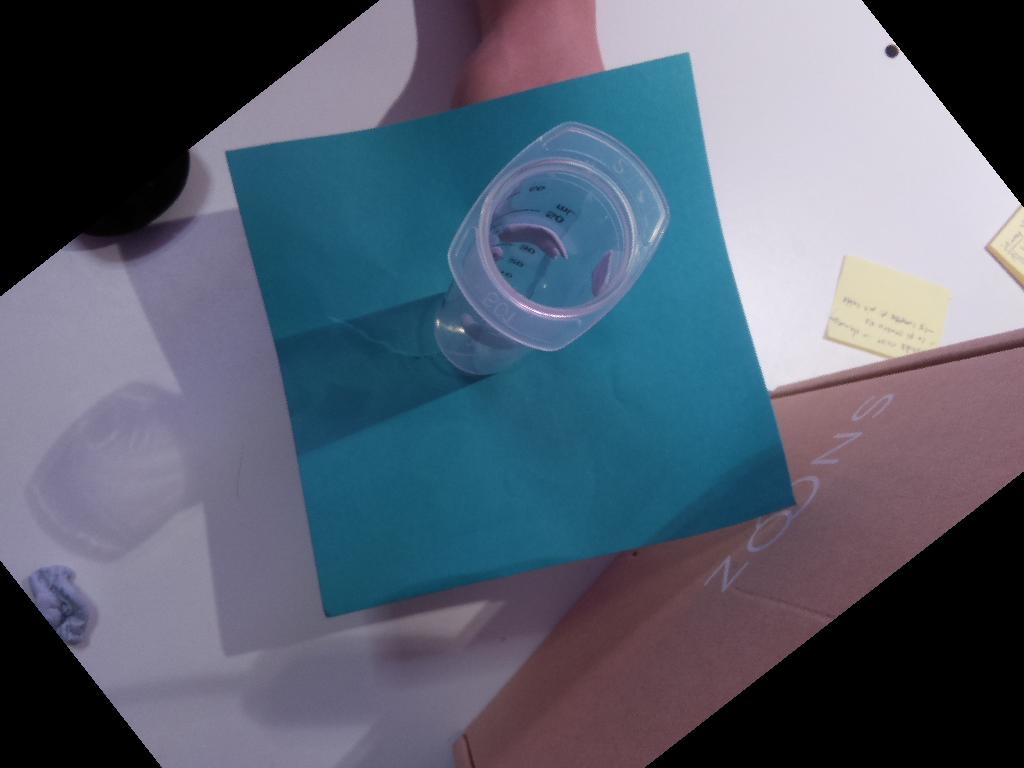dirty: (446, 121, 671, 351)
